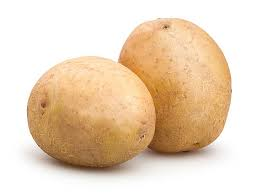potato: (119, 12, 232, 159), (23, 54, 156, 167)
